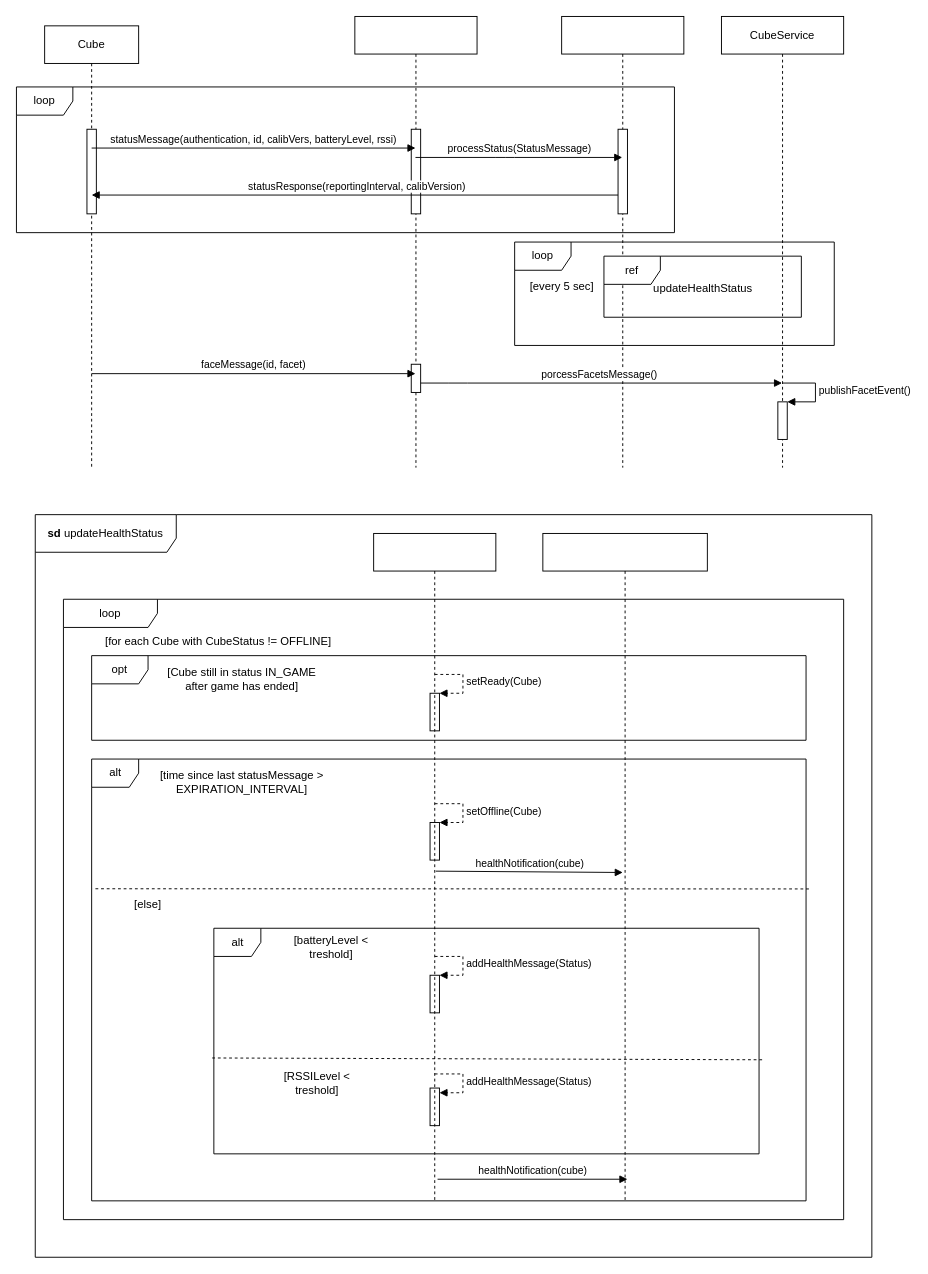
The diagram is 928 pixels wide and 1274 high, and some of its shapes have lost their labels. Here are the shapes that lost their labels. From the top down, the box of each, then its label:
(354, 16, 477, 468): RaspberryPiController
(561, 16, 684, 468): CubeStatusController
(373, 533, 496, 1201): CubeStatusContoller
(542, 533, 707, 1201): GameManagerContoller
